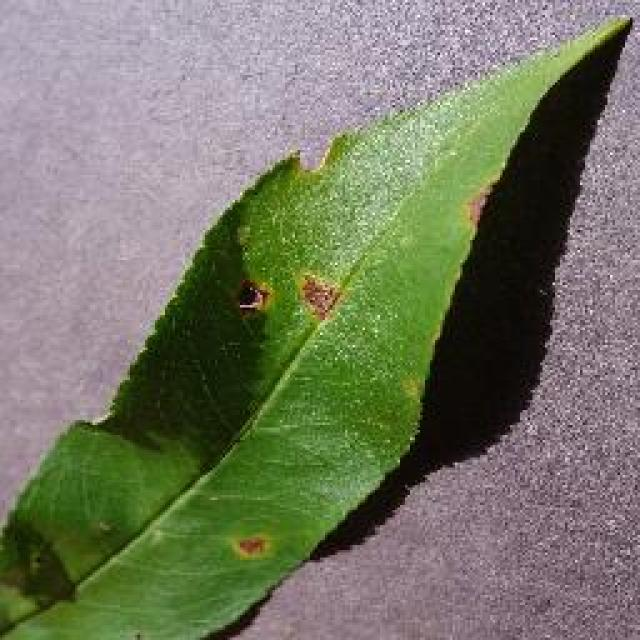Peach_Bacterial_Spot: (216, 195, 466, 497)
